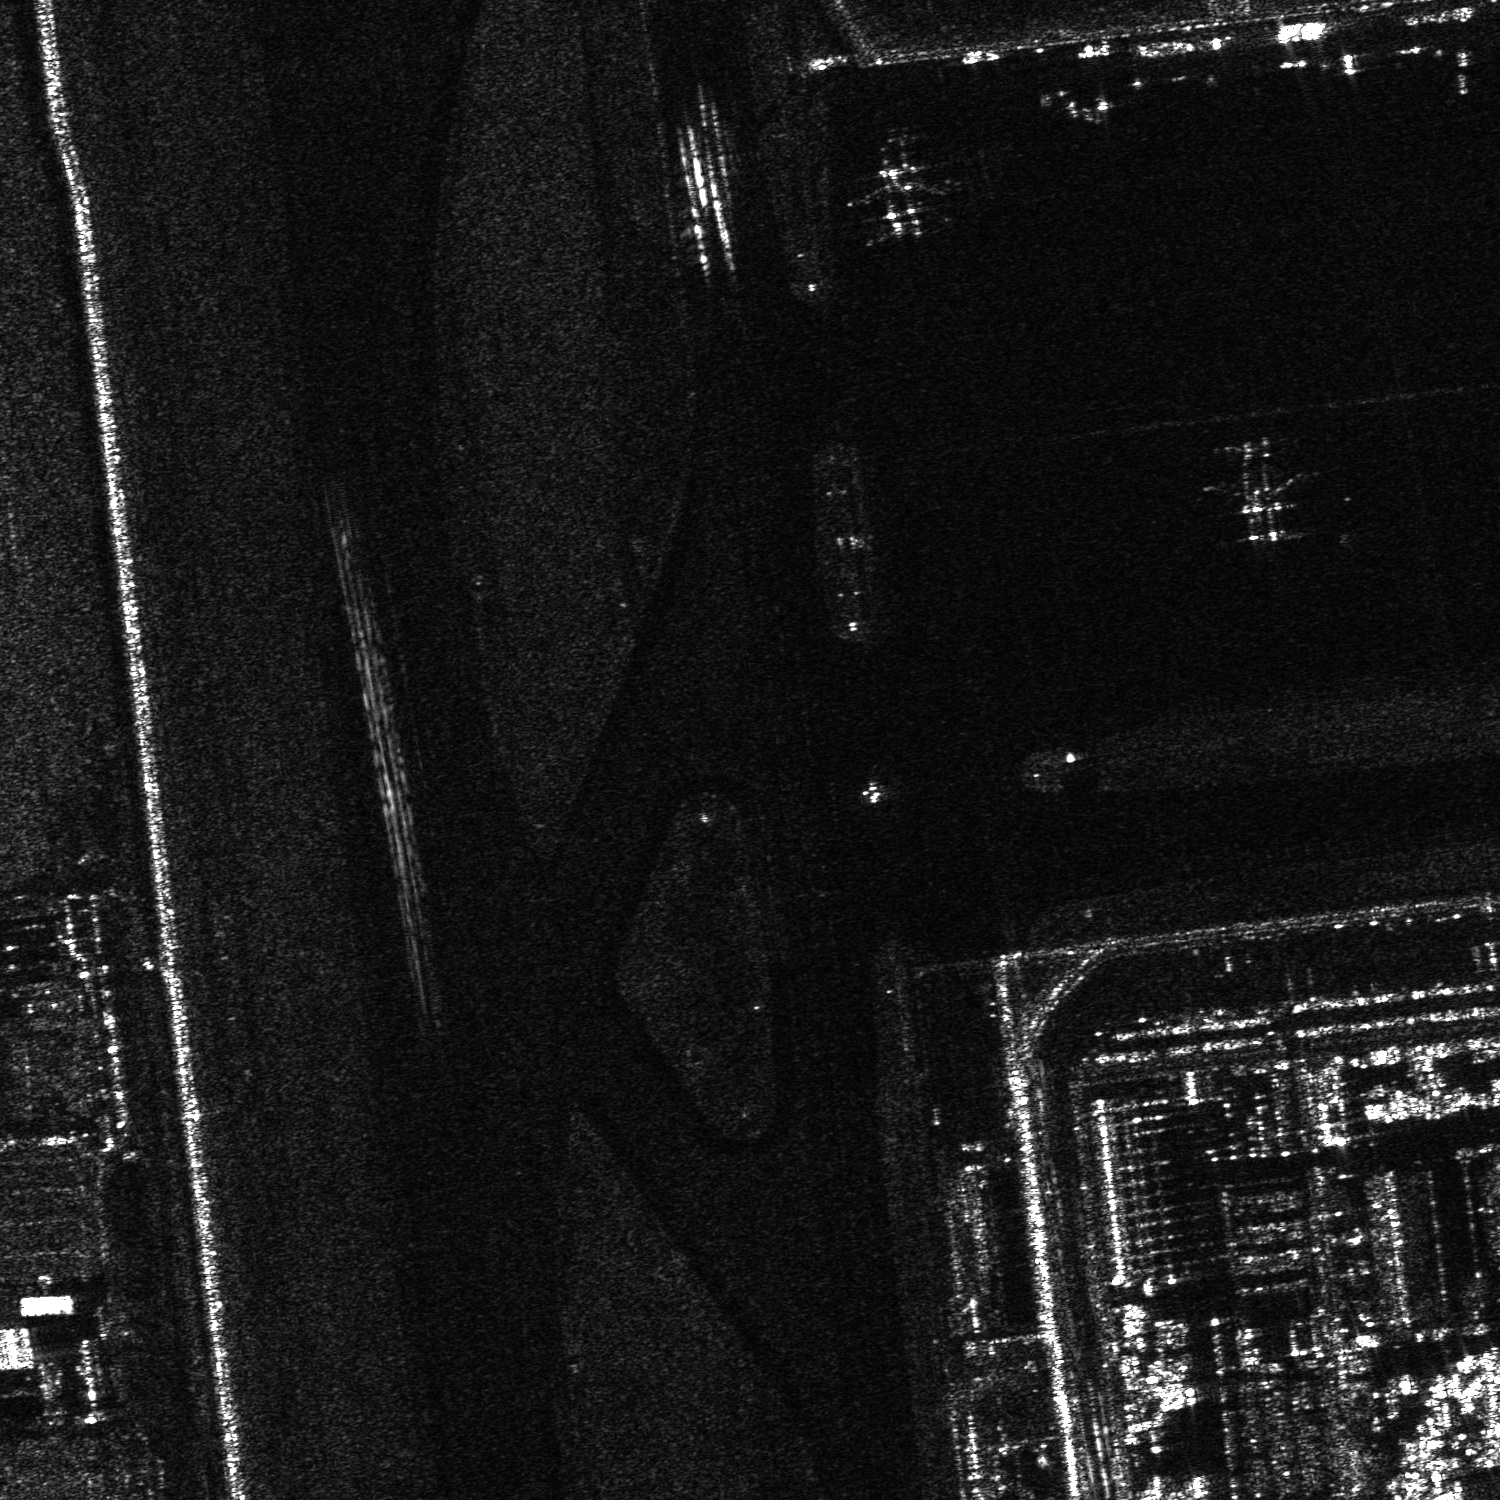A220: (845, 161, 945, 240)
A330: (1205, 433, 1306, 519)
